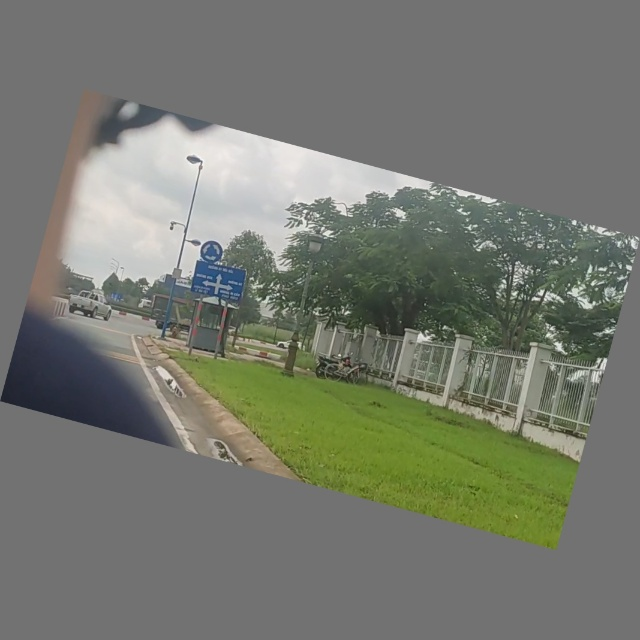R.303: (196, 238, 227, 265)
